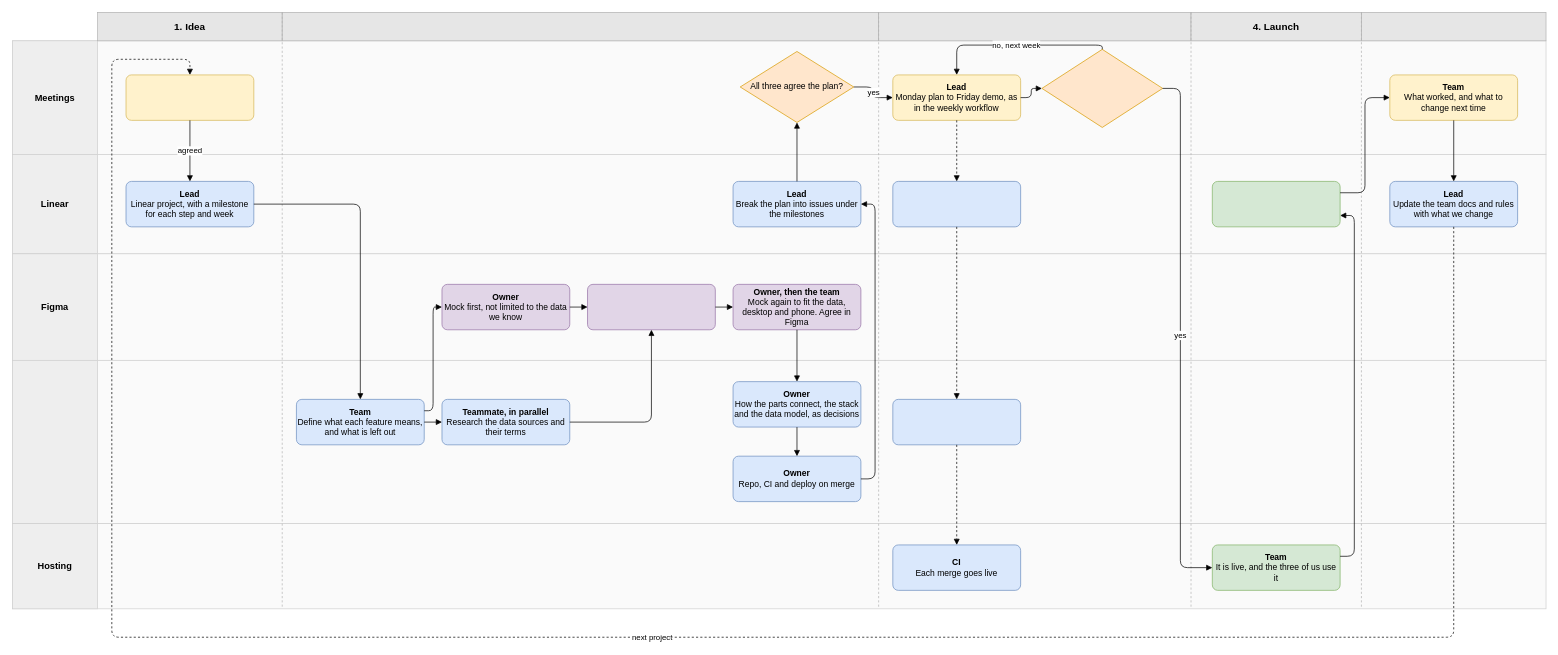
Image size: 1558x655. Some labels were removed from this diagram. Here are the shapes that lost their labels. From the top down, the centre of each, then its label:
At (580,26): "2. Plan".
At (1034,26): "3. Build, a week at a time".
At (1453,26): "5. Look back".
At (189,97): "Team The idea: what, why, what not, and the end date".
At (1102,88): "Milestones done, or the end date reached?".
At (956,204): "Owners Issues move to Done, milestone by milestone".
At (1276,204): "Lead Project complete in Linear".
At (651,307): "Claude, then the team Data-element mapping: is each element feasible?".
At (55,442): "GitHub".
At (956,422): "Owners Pull requests reviewed and merged".
